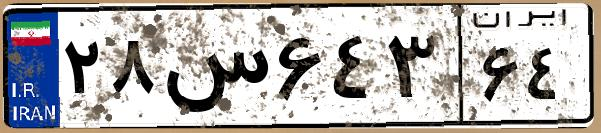2: (57, 26, 110, 100)
3: (385, 28, 445, 110)
4: (330, 28, 385, 110), (525, 38, 570, 115)
6: (270, 28, 330, 110), (475, 38, 525, 113)
8: (110, 28, 158, 98)
س: (158, 20, 270, 120)
